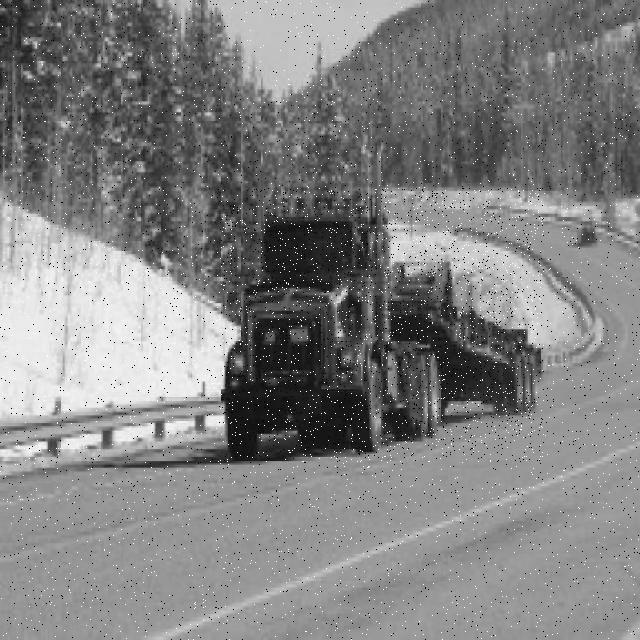Box Truck: (221, 188, 544, 462)
